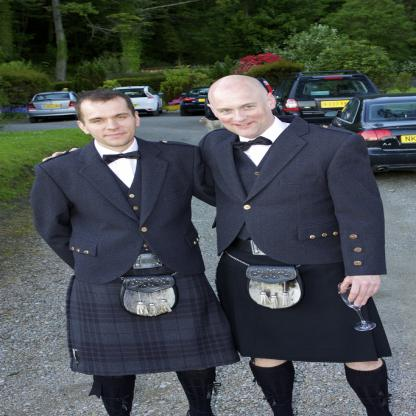Car: (26, 69, 416, 179), (334, 96, 416, 173), (279, 73, 380, 130), (29, 90, 81, 123), (112, 87, 164, 117), (179, 89, 215, 117)
